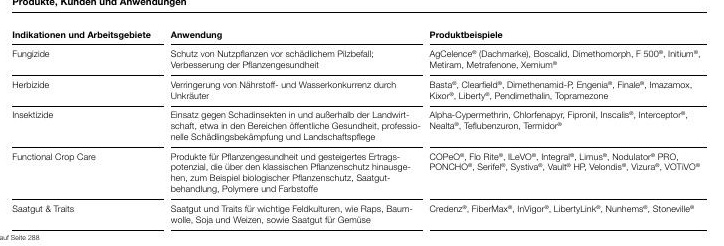table: (0, 0, 724, 246)
